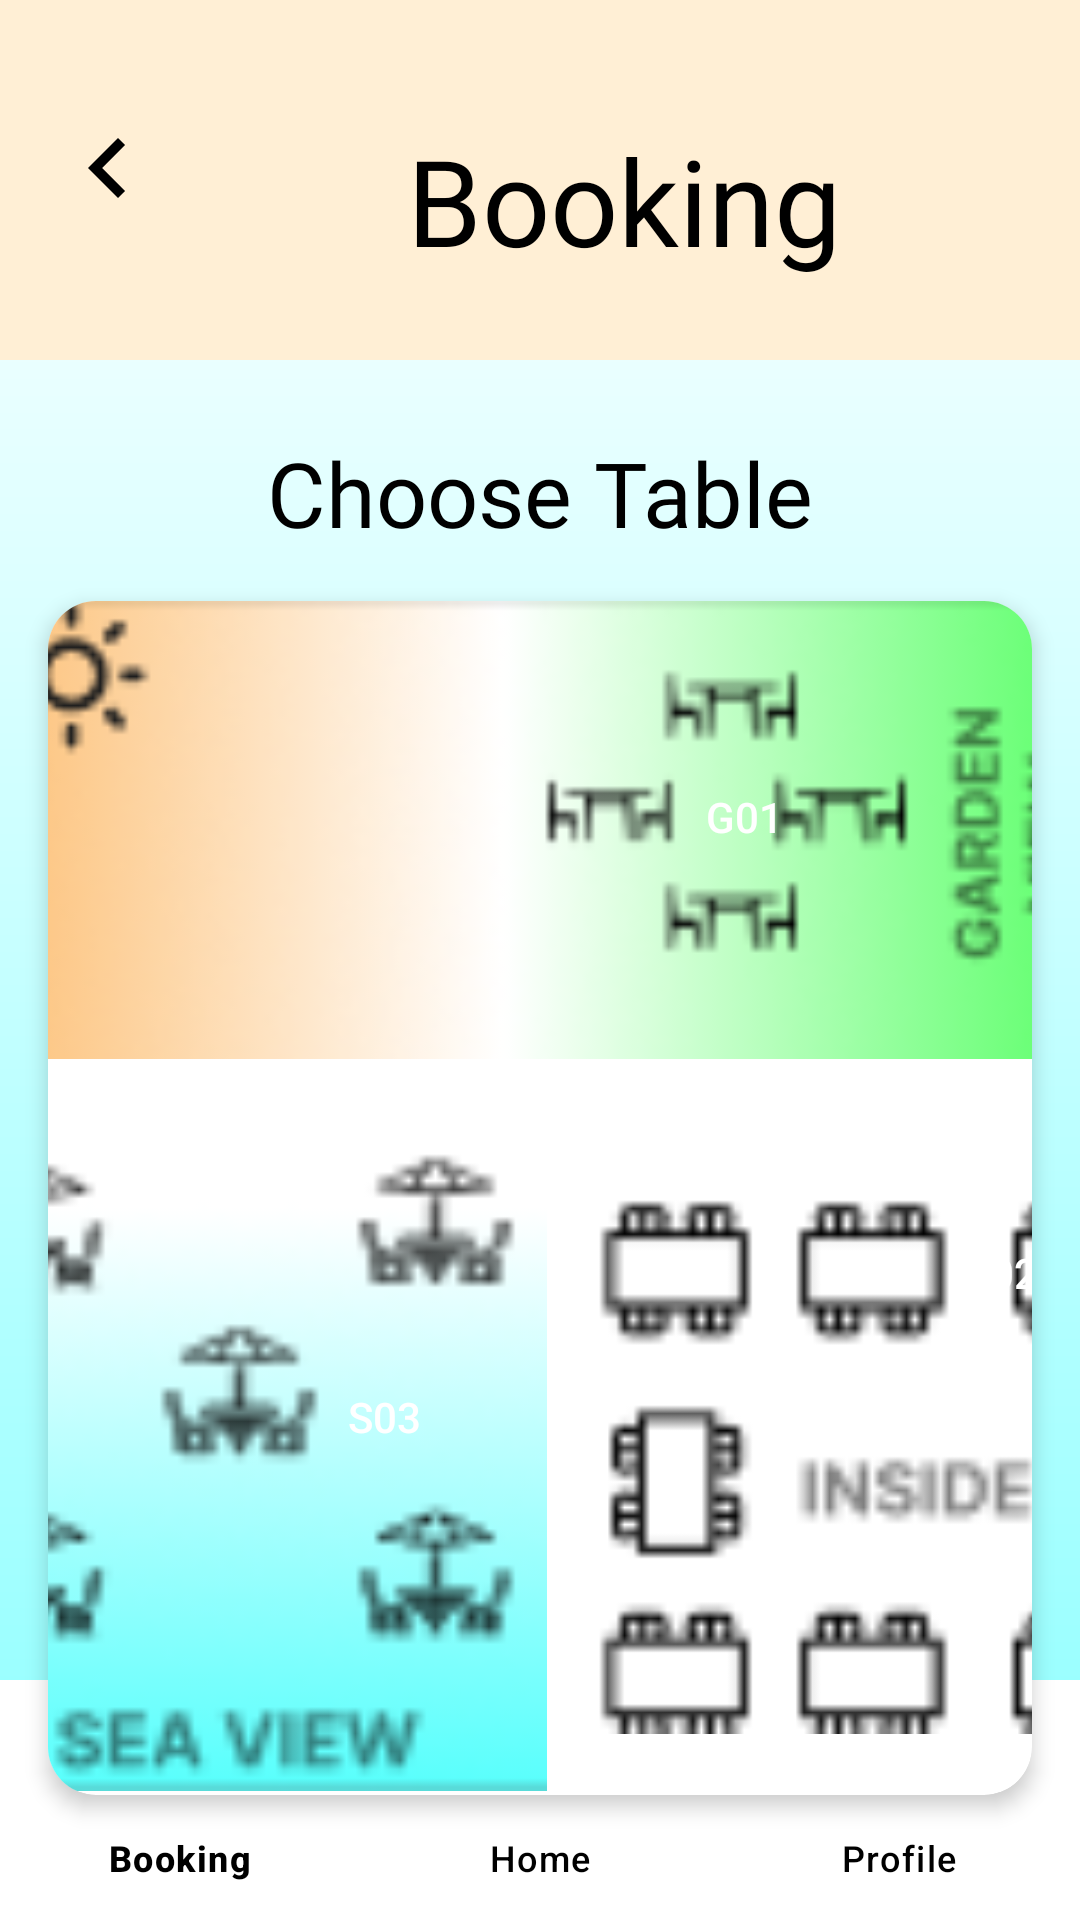

Screen size 1080x1920. Icon name, then its box in pixels as (x1, y1, x2, y2):
Back Icon: (88, 138, 125, 198)
